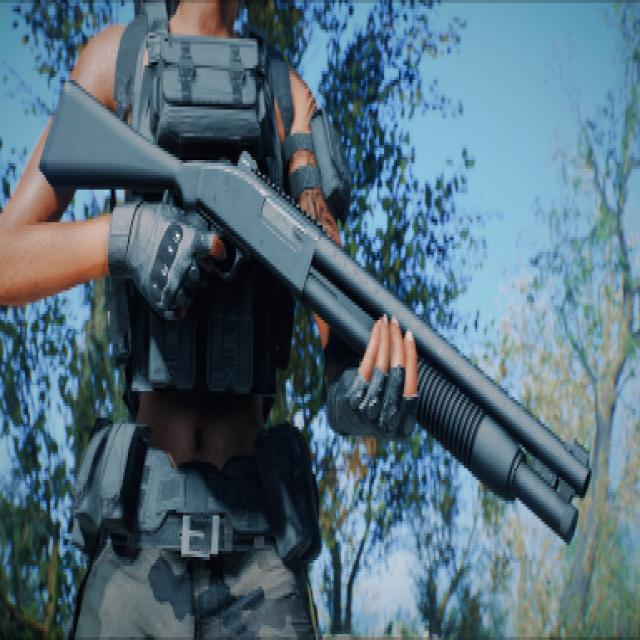ShotGun: (38, 83, 592, 545)
